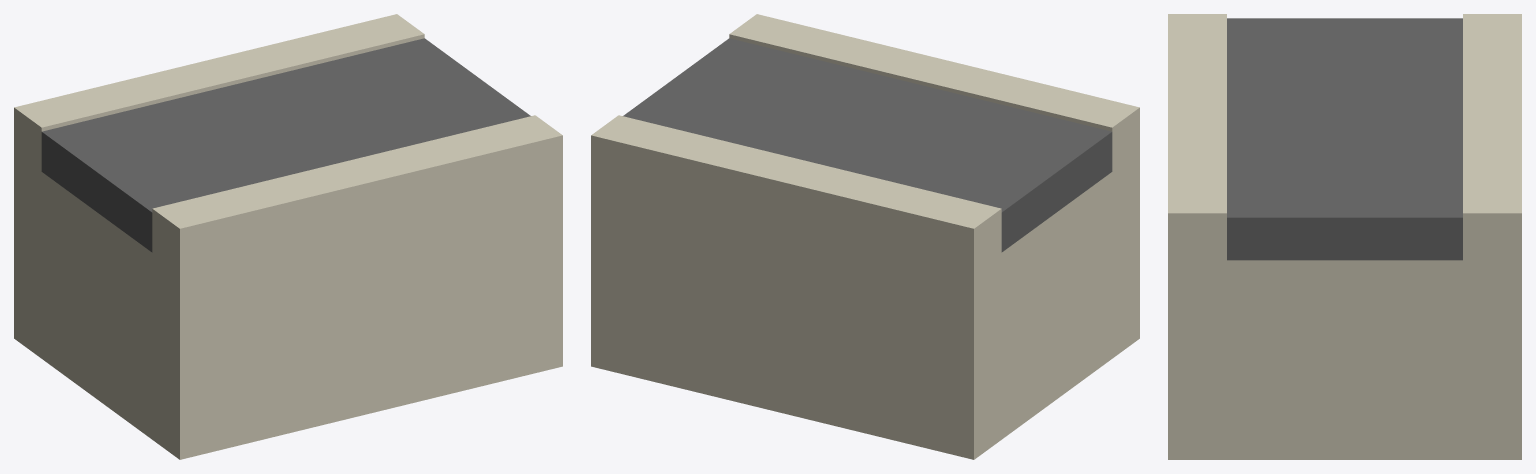
File: tile273.fbx
3 renders of one model, left to right at view 1: azimuth 30°, elevation 25°; view 2: azimuth 150°, elevation 25°; view 3: azimuth 270°, elevation 25°, orthographic. The views are drawn at different scales.
Visible parts, largest first — view 1: tile273; view 2: tile273; view 3: tile273.
Boxes of the visible parts, x1,y1,x2,y2 form: tile273: [14, 14, 562, 459]; tile273: [591, 14, 1139, 459]; tile273: [1168, 14, 1521, 459].
Size of the model in its own units: 10 by 5.77 by 7.5.
